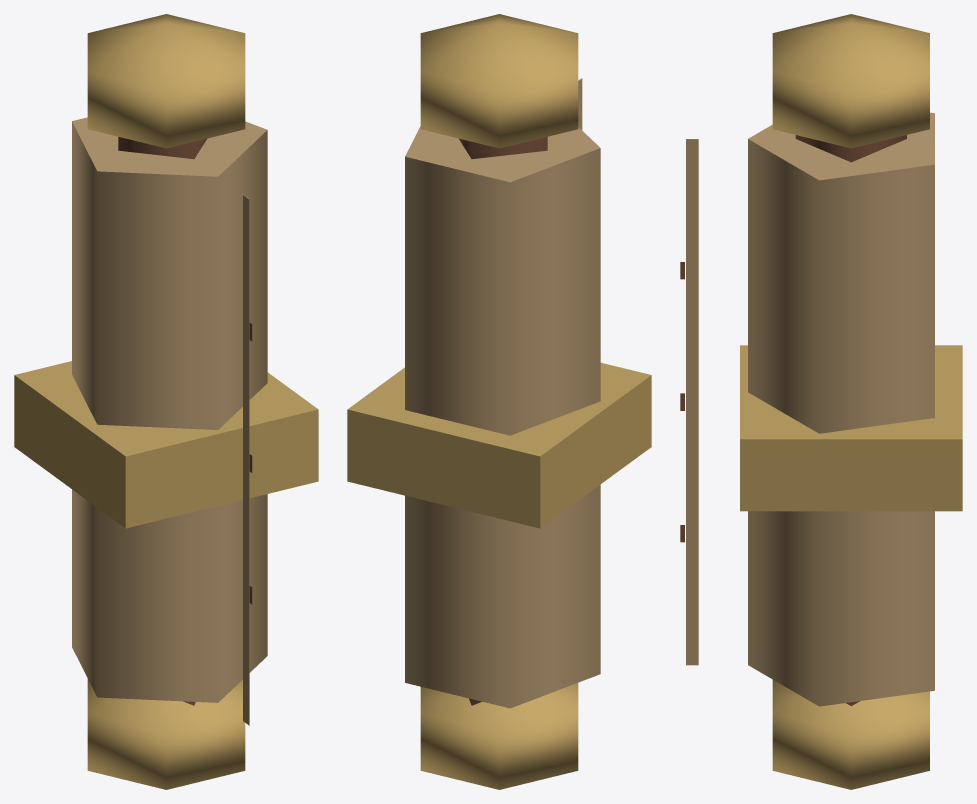
The model's file is scroll-1-lod2.glb.
3 renders of one model, left to right at view 1: azimuth 30°, elevation 25°; view 2: azimuth 150°, elevation 25°; view 3: azimuth 270°, elevation 25°, orthographic.
Visible parts, largest first — view 1: piece_whole, ReadingSheet; view 2: piece_whole; view 3: piece_whole, ReadingSheet.
Boxes of the visible parts, x1,y1,x2,y2 form: piece_whole: [14, 14, 318, 789]; ReadingSheet: [243, 194, 252, 725]; piece_whole: [347, 14, 651, 789]; piece_whole: [740, 14, 962, 789]; ReadingSheet: [680, 139, 698, 665].
Bounding box in the file's own units: 0.14 × 0.525 × 0.1775.
